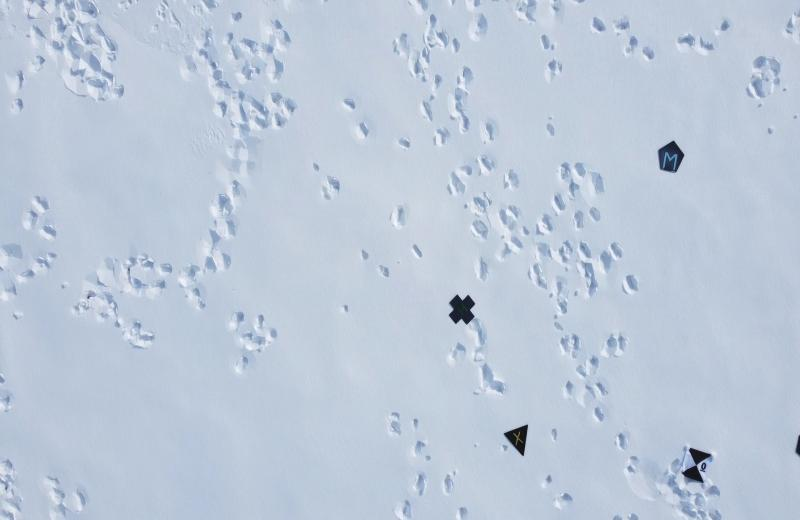Cross: (447, 291, 478, 330)
Pentagon: (652, 137, 688, 177)
Triangle: (501, 422, 532, 458)
